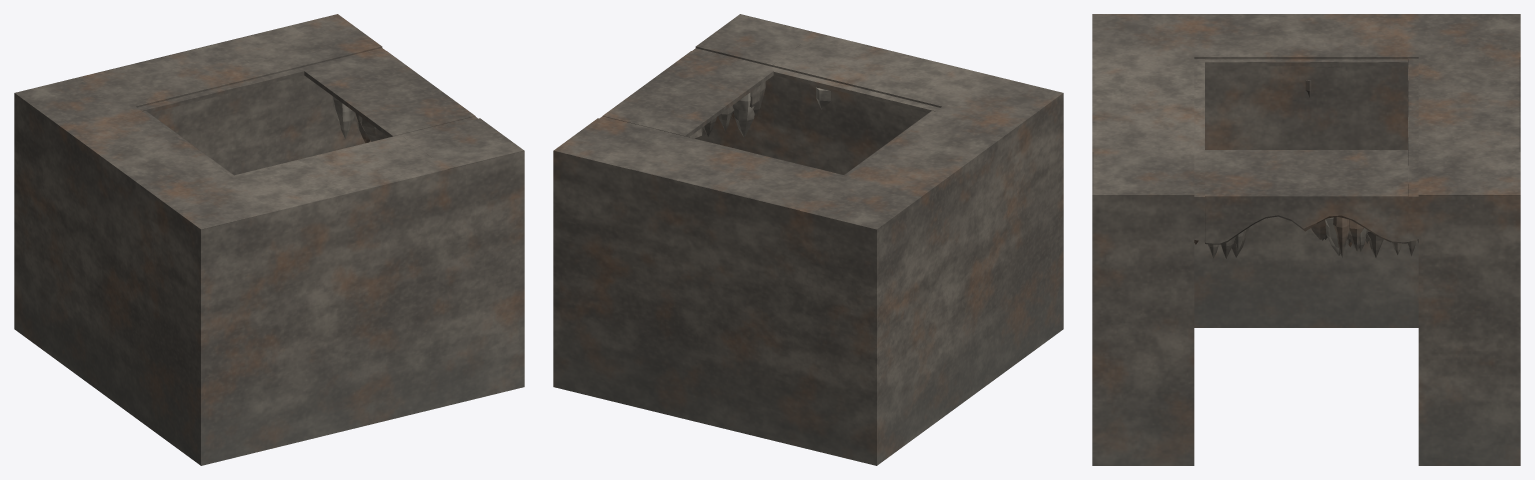
The model's file is dungeon_cave_end_vault.glb.
The picture shows the model from 3 angles, left to right: view 1: azimuth 30°, elevation 25°; view 2: azimuth 150°, elevation 25°; view 3: azimuth 270°, elevation 25°; orthographic projection. The views are drawn at different scales.
Parts seen in each view (by area): view 1: dungeon_cave_end_vault; view 2: dungeon_cave_end_vault; view 3: dungeon_cave_end_vault.
Boxes of the visible parts, x1,y1,x2,y2 form: dungeon_cave_end_vault: (14,14,524,465); dungeon_cave_end_vault: (553,14,1063,465); dungeon_cave_end_vault: (1092,14,1520,465).
Bounding box in the file's own units: 5 × 3.5 × 5.
1 material, 1 textured.
